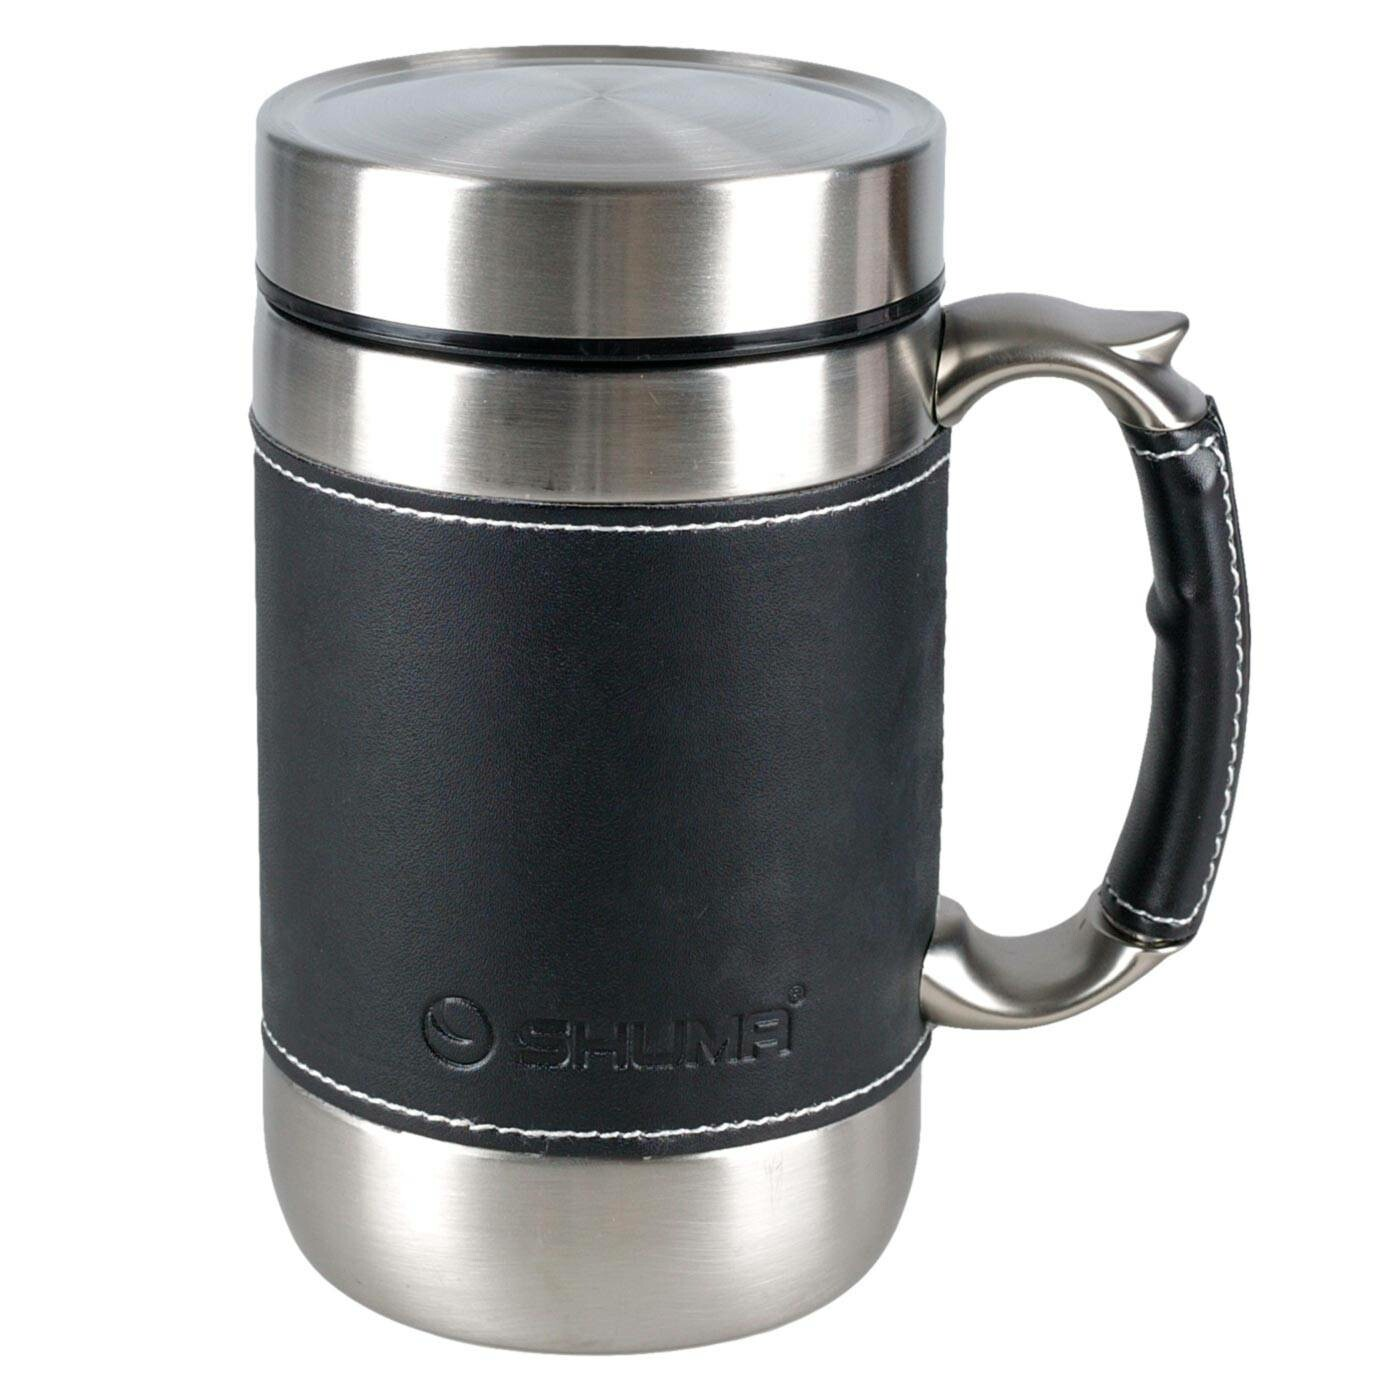gelas: (127, 5, 1277, 1372)
